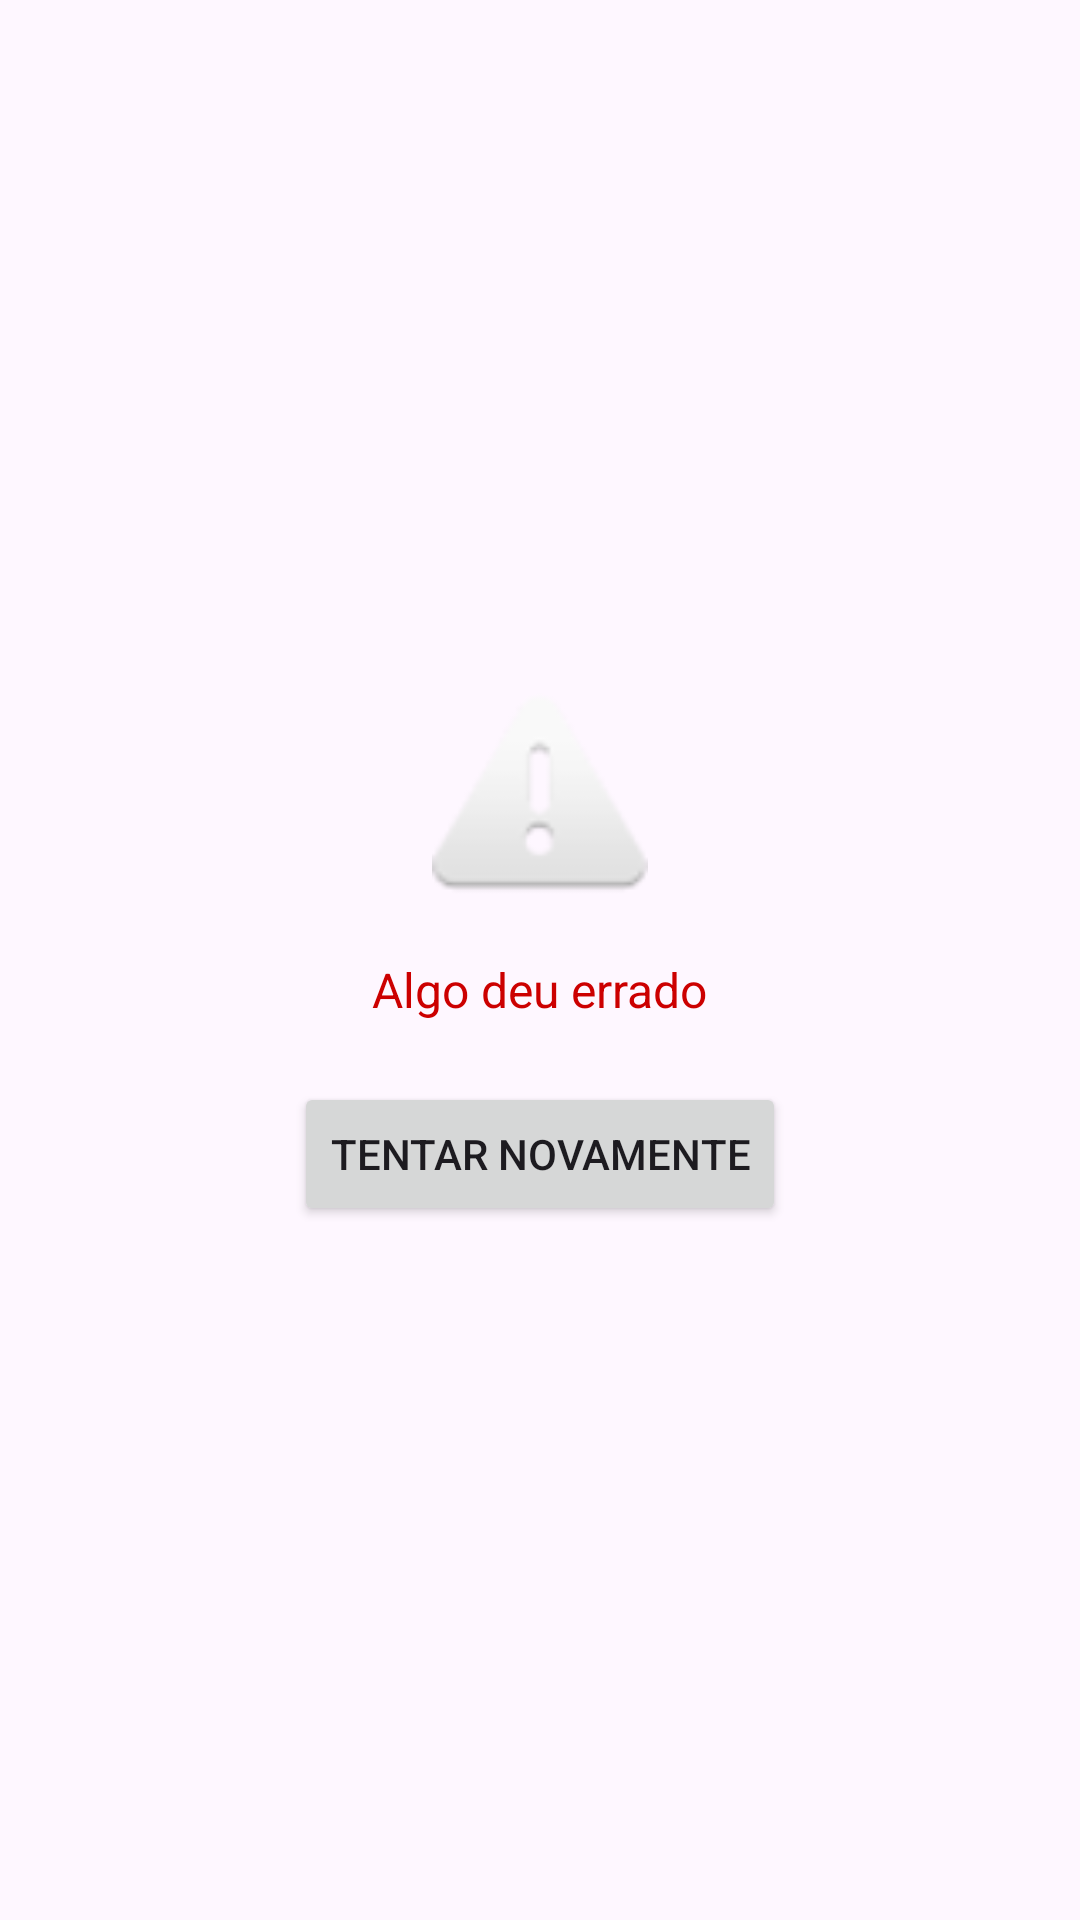

Named icons in this screenshot (1080px x 1920px) and their bounding boxes, (x1, y1, x2, y2):
alert: (432, 743, 648, 889)
